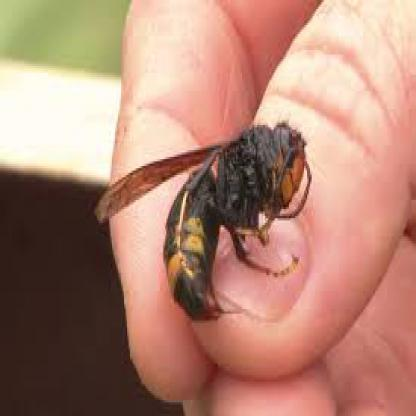asian: (104, 123, 312, 323)
